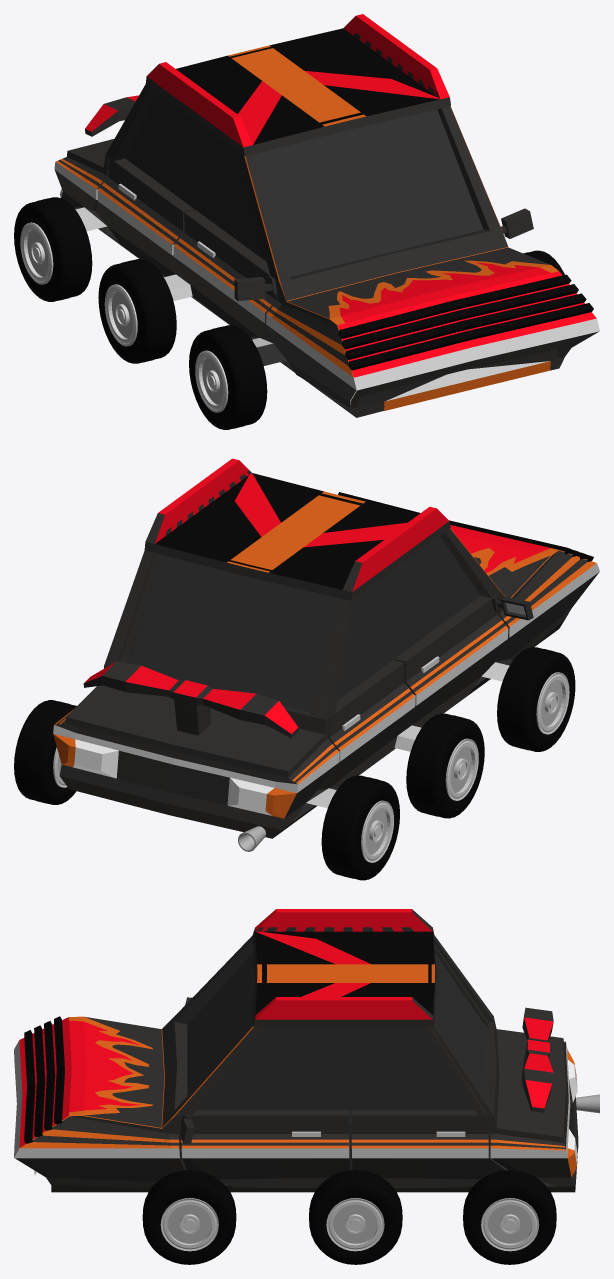
3 views of the same model, one above another, from view 1: azimuth 30°, elevation 25°; view 2: azimuth 150°, elevation 25°; view 3: azimuth 270°, elevation 25° (orthographic). The views are drawn at different scales.
Parts seen in each view (by area): view 1: BODY38B, WHEEL.005, WHEEL.001, WHEEL.004; view 2: BODY38B, WHEEL.005, WHEEL.001, WHEEL.004, WHEEL.002; view 3: BODY38B, WHEEL.003, WHEEL.002, WHEEL.006.
Part boxes in pixels (bbox=[...]): BODY38B: bbox=[54, 14, 599, 417]; WHEEL.005: bbox=[98, 259, 176, 363]; WHEEL.001: bbox=[189, 325, 267, 429]; WHEEL.004: bbox=[14, 197, 92, 301]; BODY38B: bbox=[53, 458, 599, 838]; WHEEL.005: bbox=[406, 713, 484, 818]; WHEEL.001: bbox=[497, 647, 575, 751]; WHEEL.004: bbox=[321, 775, 399, 880]; WHEEL.002: bbox=[14, 700, 76, 804]; BODY38B: bbox=[14, 909, 578, 1192]; WHEEL.003: bbox=[142, 1170, 236, 1264]; WHEEL.002: bbox=[463, 1170, 556, 1264]; WHEEL.006: bbox=[309, 1170, 402, 1264].
Size of the model in its own units: 151 by 109 by 245.
